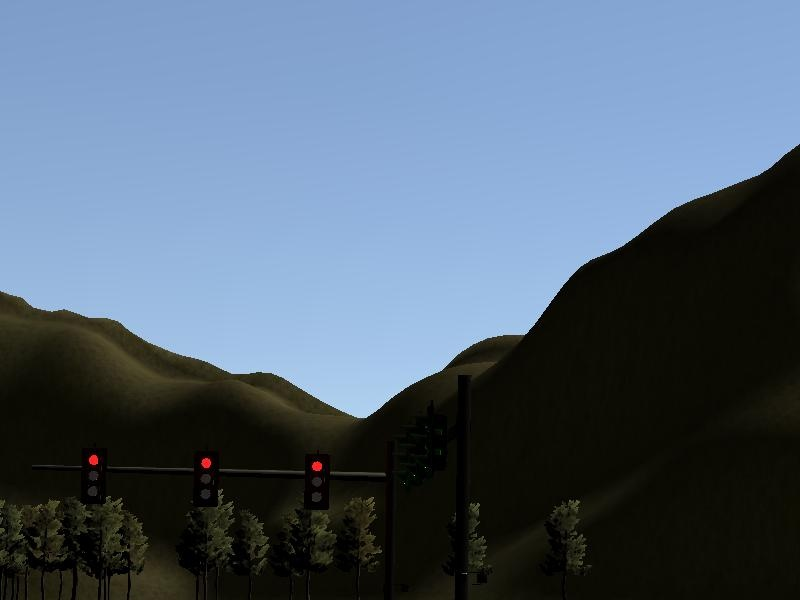RED: (194, 451, 219, 506), (81, 448, 106, 503), (303, 452, 328, 507)
